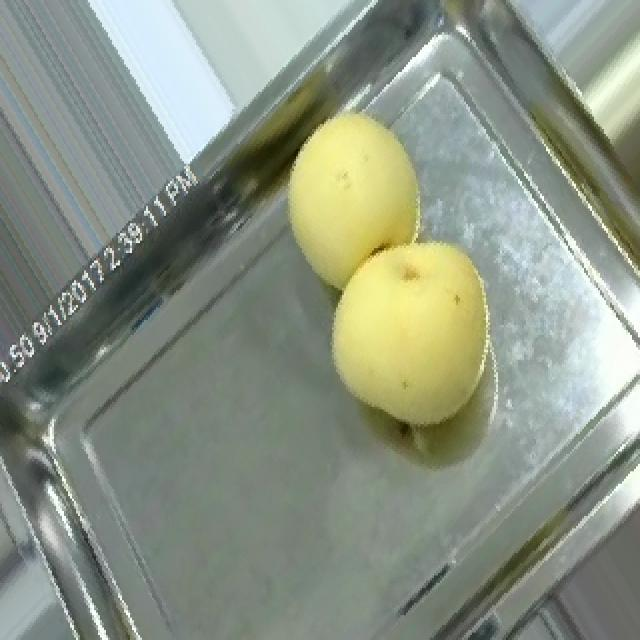Fruit: (306, 218, 510, 452), (262, 97, 442, 305)
